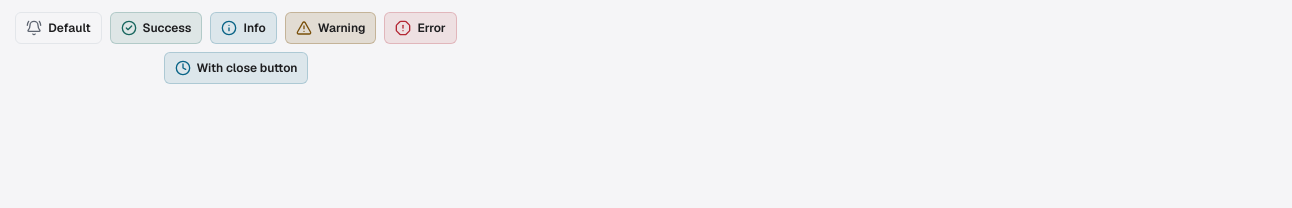
Test: sonner-08 block › shows the close button only for toasts that opt in
Click the button "With close button": (236, 68) [164,52,308,84]
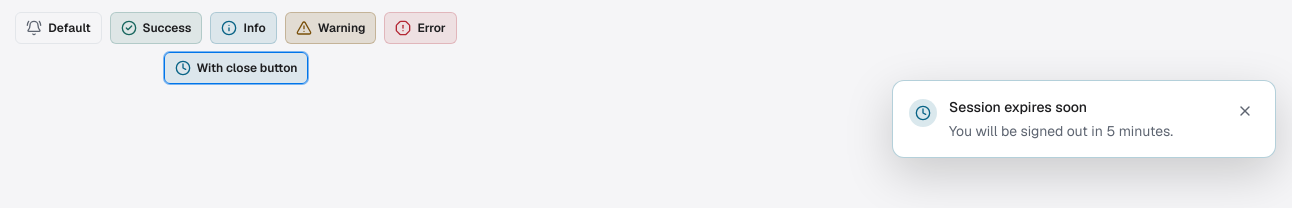
expect the heading "Session expires soon" is shown: met, box [949,98,1087,116]
